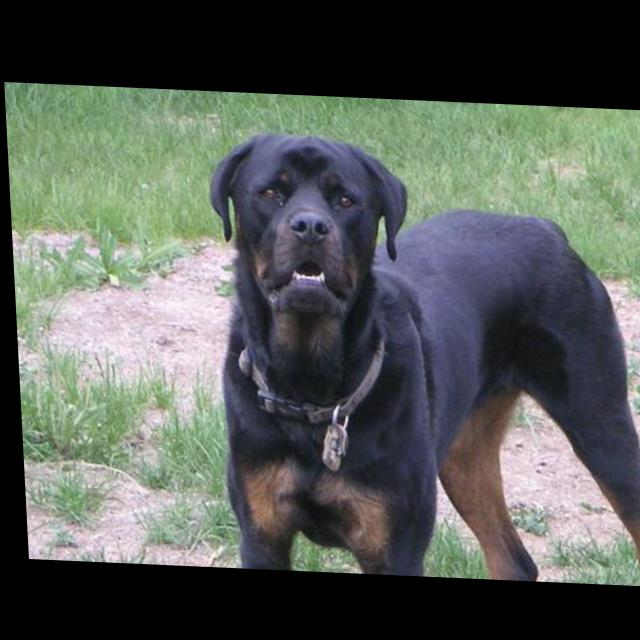rottweiler: (204, 127, 640, 582)
